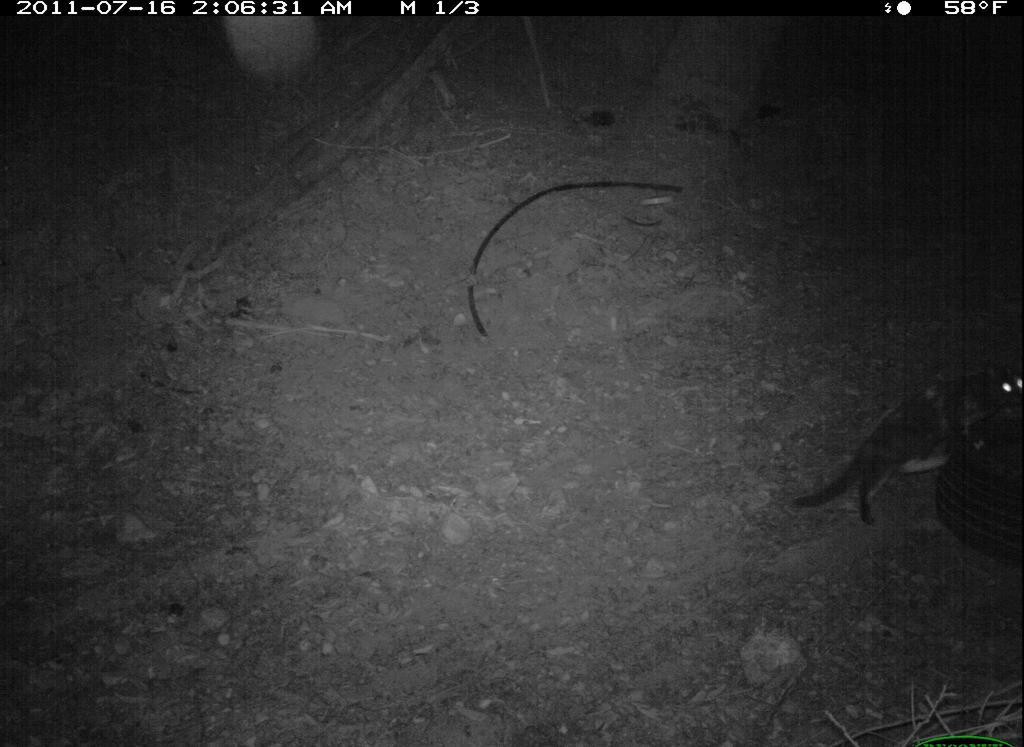cat: (775, 359, 1022, 538)
